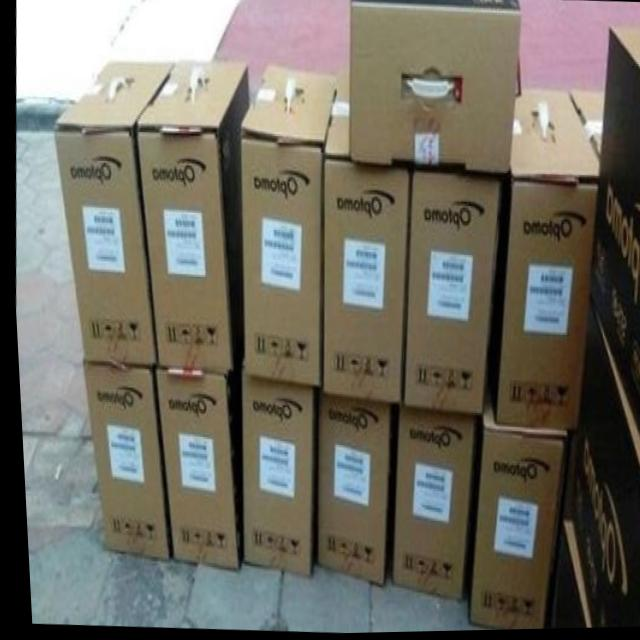box: (483, 94, 598, 433), (52, 62, 176, 367), (136, 63, 249, 373), (238, 64, 337, 388), (348, 0, 521, 174), (319, 80, 408, 406), (564, 299, 640, 630), (463, 380, 562, 632), (399, 173, 498, 415), (585, 30, 640, 456), (151, 351, 240, 570), (78, 361, 163, 561), (386, 406, 471, 603), (238, 367, 314, 577), (312, 391, 386, 588)
